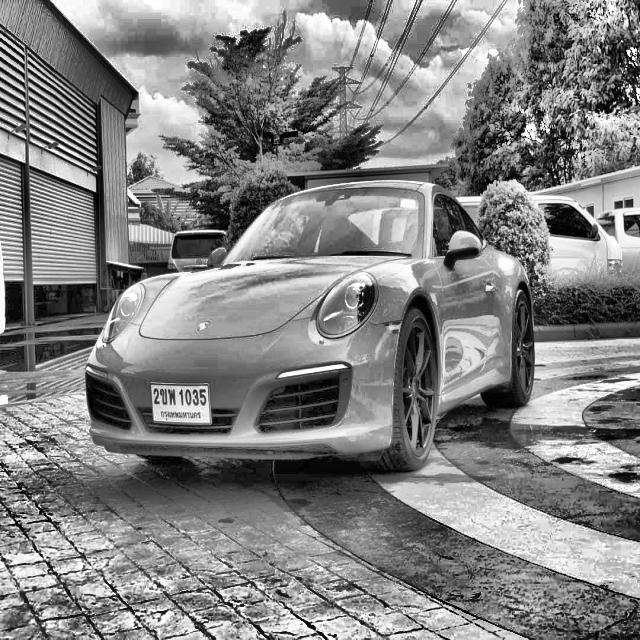license-plate: (141, 376, 219, 434)
